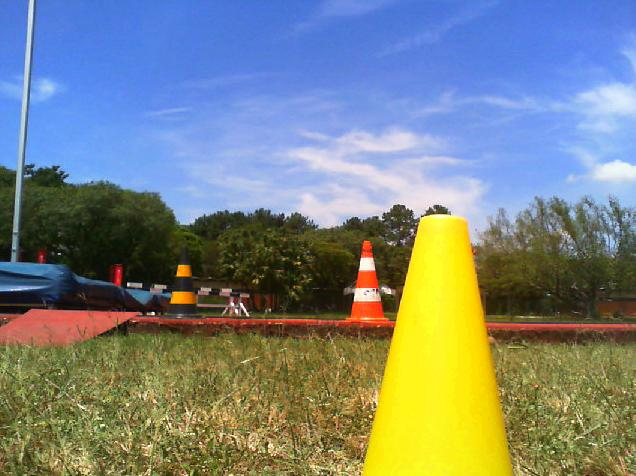0 cone: (360, 214, 512, 476), (344, 241, 389, 322), (161, 247, 204, 319)
